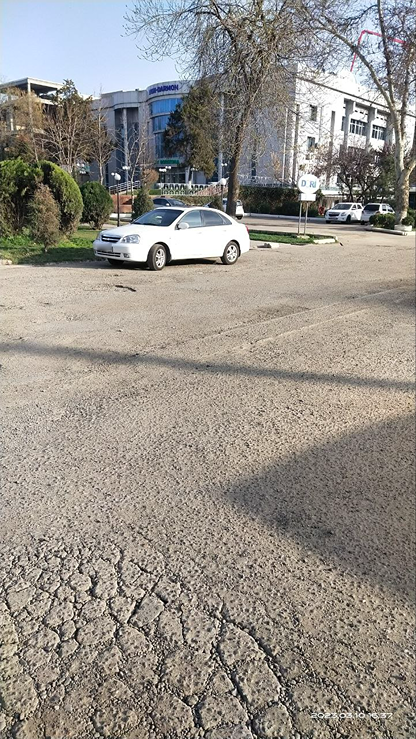car: (84, 200, 251, 274), (322, 200, 356, 225), (366, 198, 399, 221)
tree: (141, 0, 298, 177), (314, 7, 416, 198), (45, 77, 113, 170)
